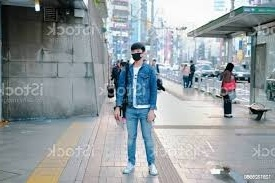not_fallen: (121, 43, 161, 175), (220, 63, 235, 117), (110, 59, 123, 96), (151, 59, 166, 84), (179, 64, 190, 86), (189, 59, 196, 88)
